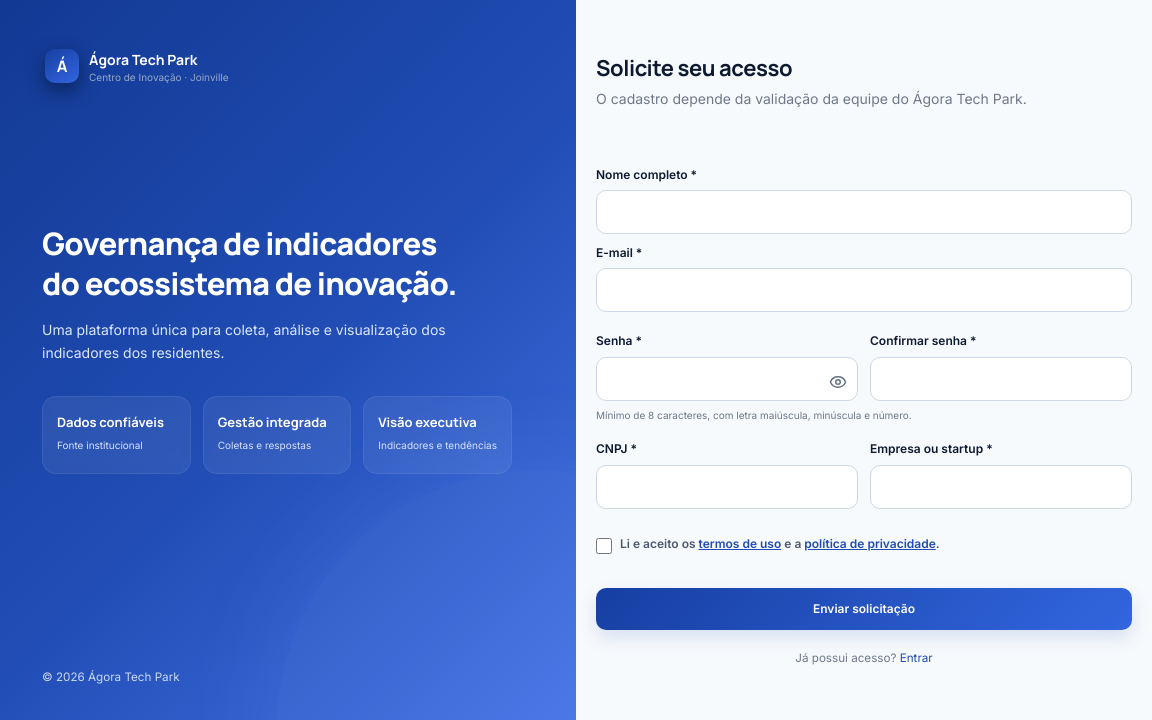
it: páginas públicas de autenticação › informa que a confirmação foi enviada após o cadastro
Type "Pessoa Teste" into the field labelled "Nome completo *". click: x=864, y=212
box: x1=596 y1=190 x2=1132 y2=234
Type "pessoa@test.com" into the field labelled "E-mail *". click: x=864, y=290
box: x1=596 y1=268 x2=1132 y2=312
Type "Senha123" into the password field labelled "Senha *". click: x=727, y=379
box: x1=596 y1=357 x2=858 y2=401
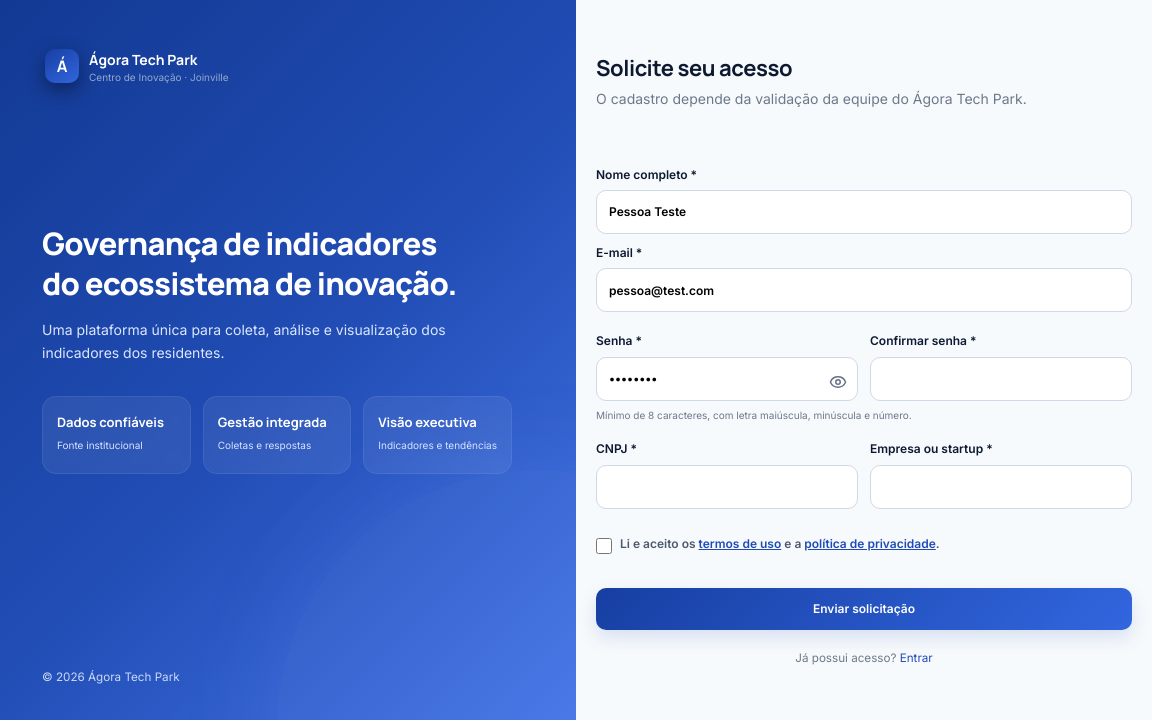
Type "Senha123" into the password field labelled "Confirmar senha *". click: x=1001, y=379
box: x1=870 y1=357 x2=1132 y2=401
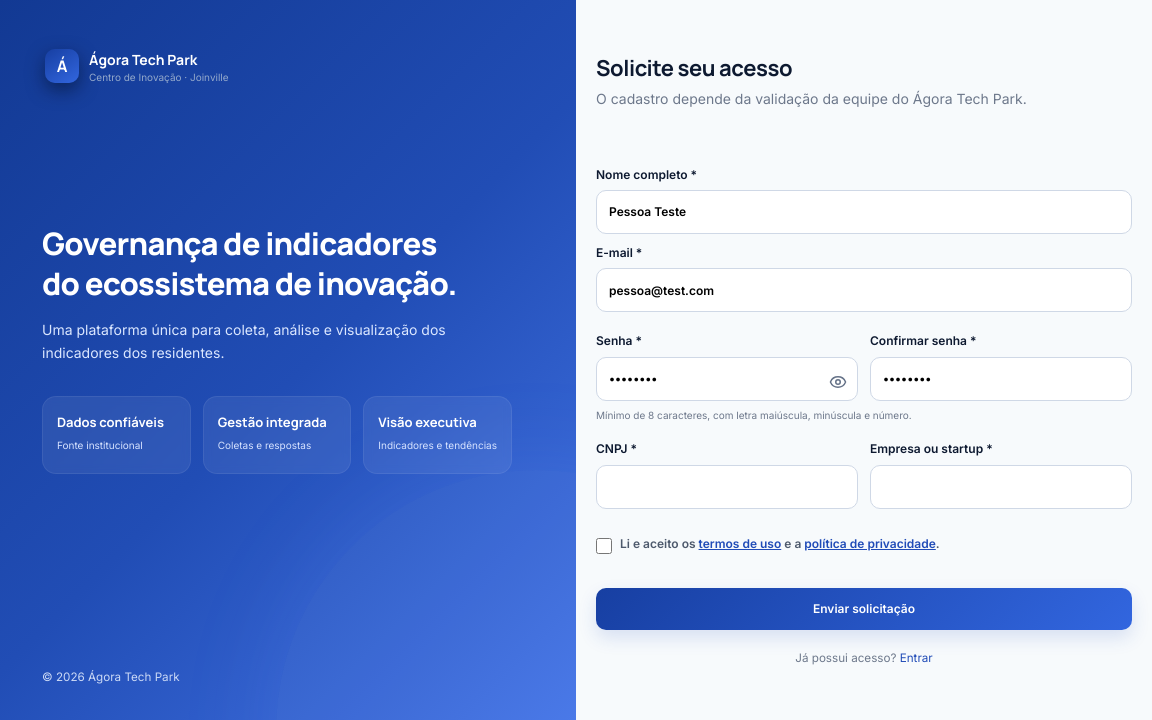
Type "11222333000181" into the field labelled "CNPJ *". click: x=727, y=487
box: x1=596 y1=465 x2=858 y2=509
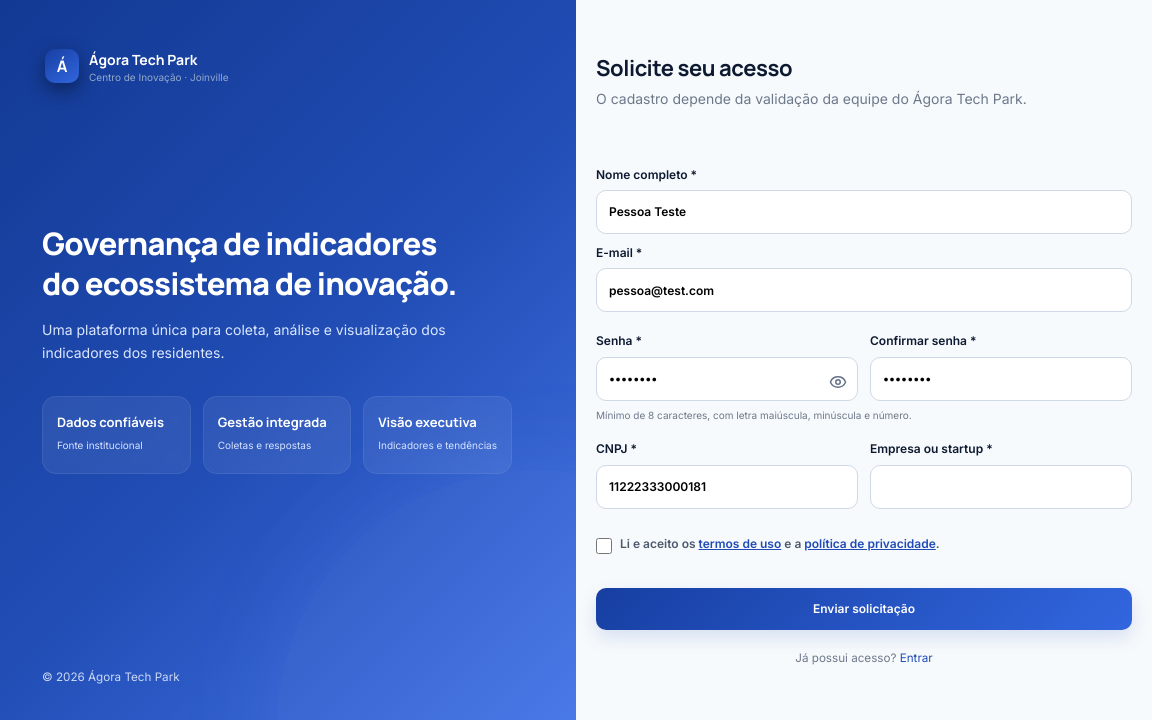
Type "Startup" into the field labelled "Empresa ou startup *". click: x=1001, y=487
box: x1=870 y1=465 x2=1132 y2=509
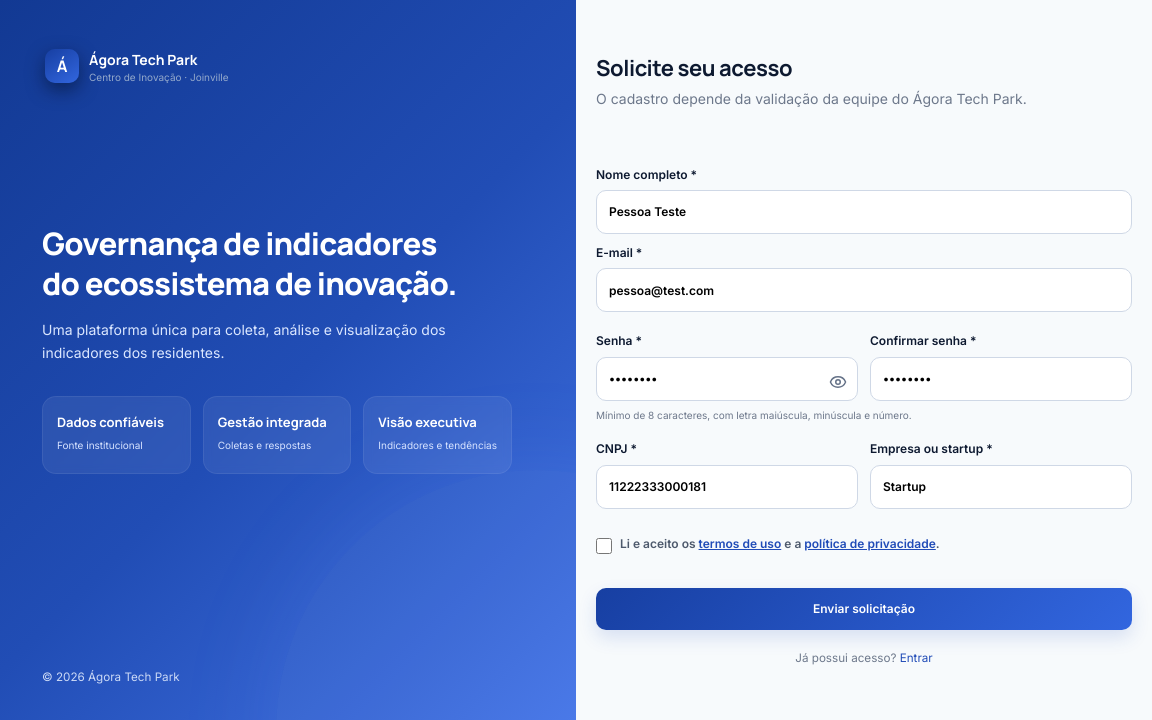
Click the checkbox labelled "Li e aceito os termos de uso e a política de privacidade .". click: x=604, y=546
box: x1=596 y1=538 x2=612 y2=554
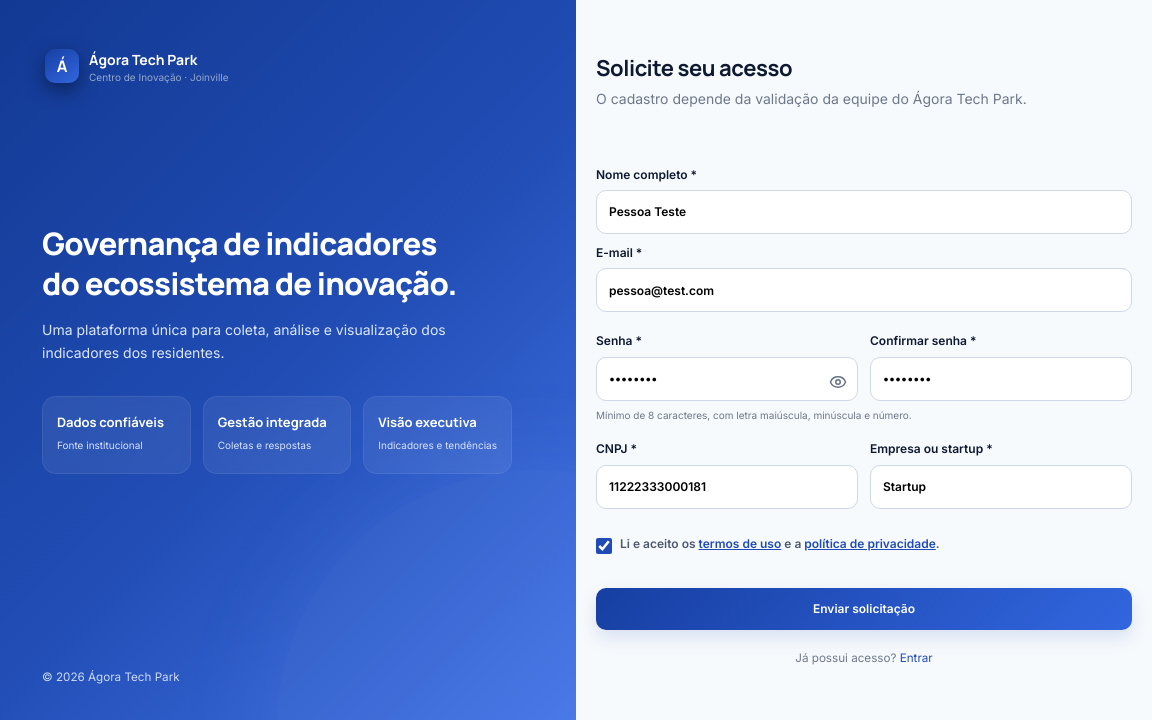
Click the button "Enviar solicitação". click: x=864, y=609
box: x1=596 y1=588 x2=1132 y2=630
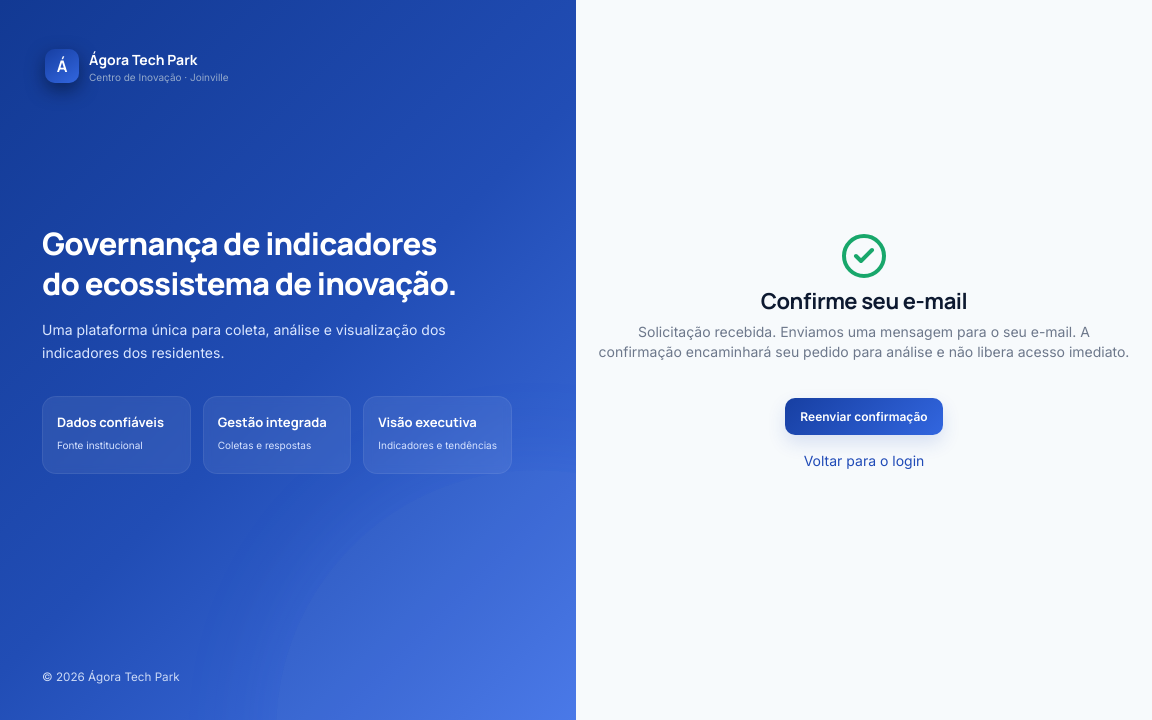
Check: the heading "Confirme seu e-mail" is shown, box x1=761 y1=286 x2=967 y2=316
Check: the text "Enviamos uma mensagem para o seu e-mail" is shown, box x1=599 y1=322 x2=1129 y2=360
